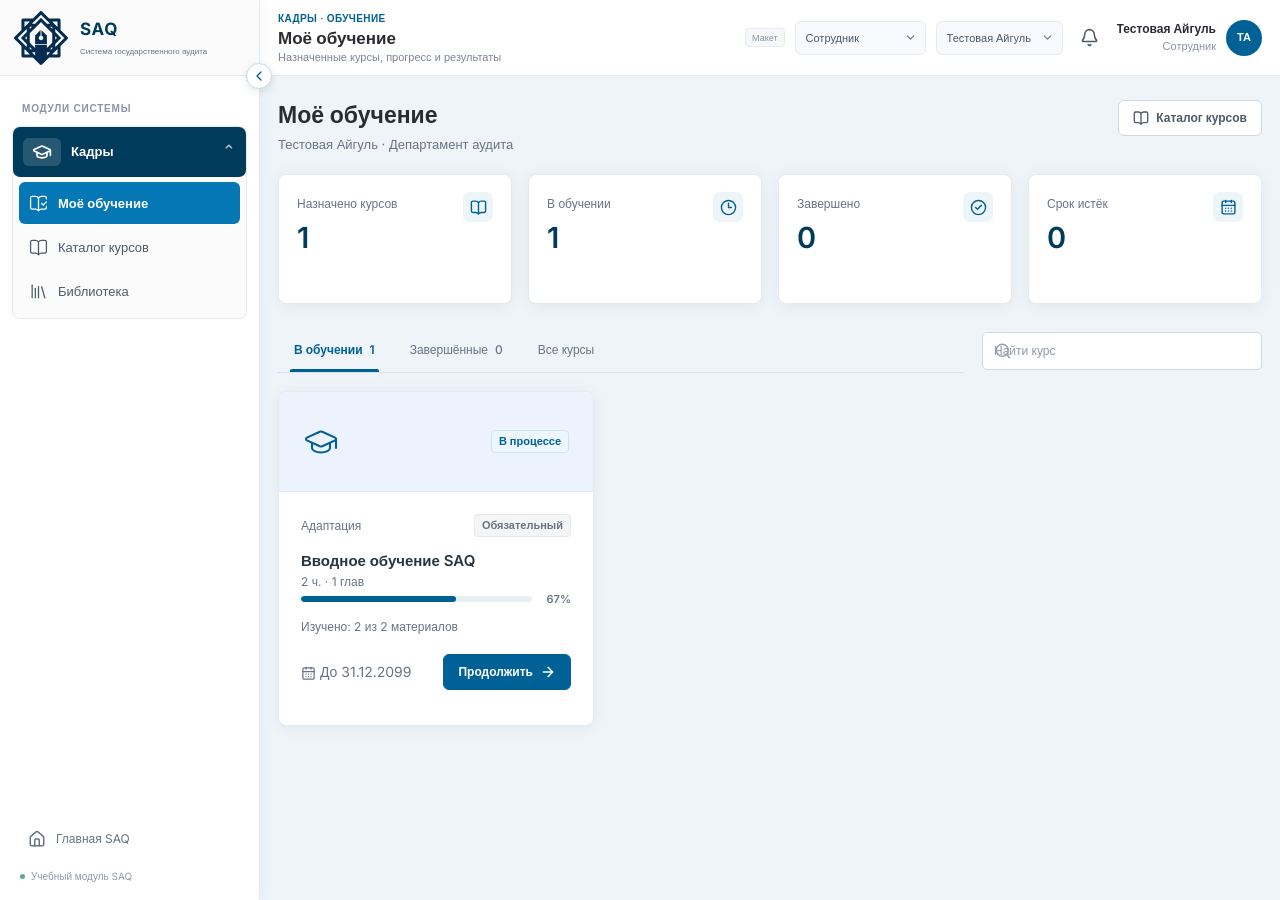
Scenario: Обучение: кадровая служба → сотрудник → результаты › закрывает кадровые маршруты сотруднику и открывает их после переключения реальной роли в приложении
Expected: the 2nd heading "Моё обучение" is shown, x1=278 y1=101 x2=438 y2=129
Expected: the link "Назначения" is not shown
Select "Кадровая служба" in the 1st dropdown named "Режим просмотра" at (860, 38), box x1=794 y1=20 x2=926 y2=54
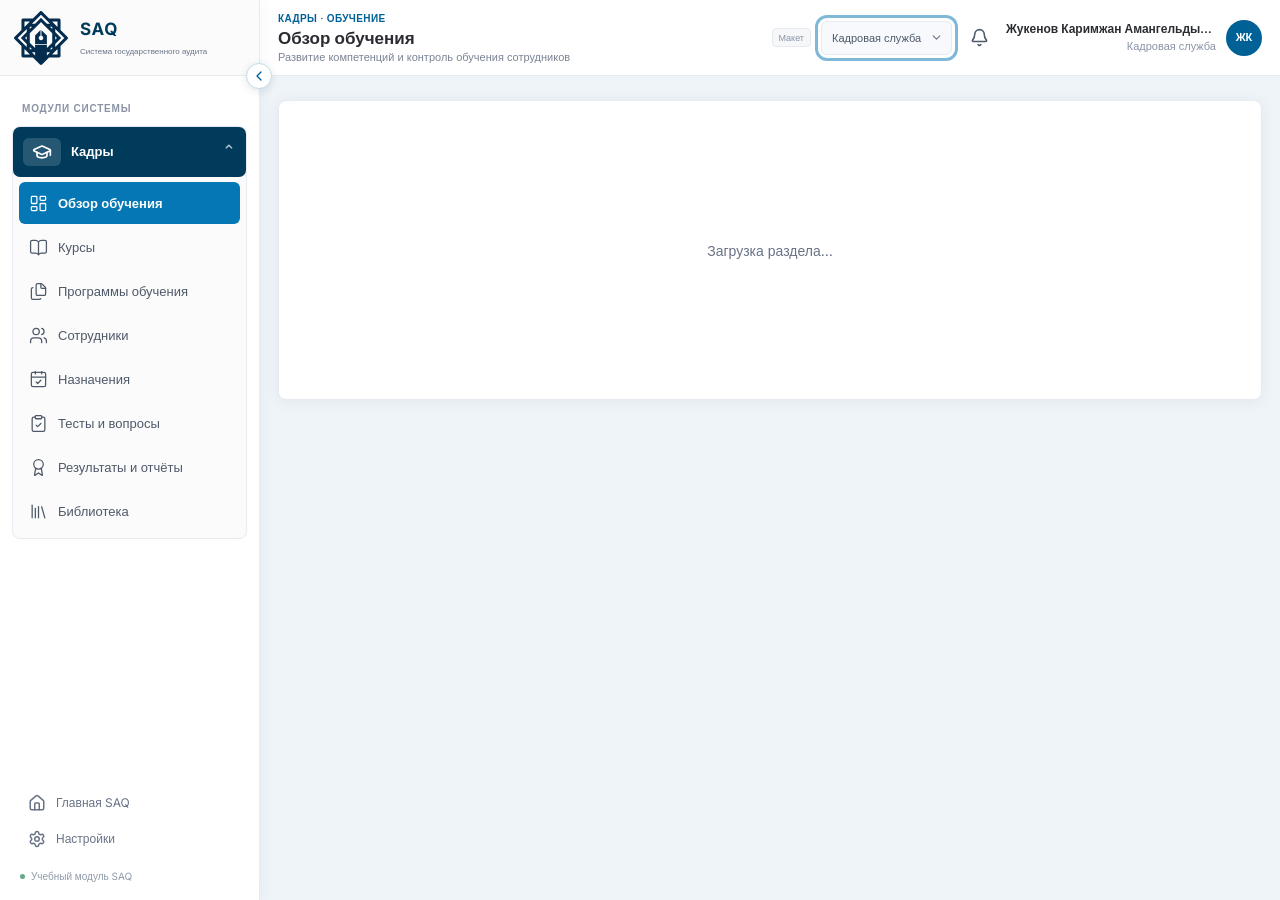
Click the link "Назначения" at (80, 379), box x1=29 y1=370 x2=130 y2=388
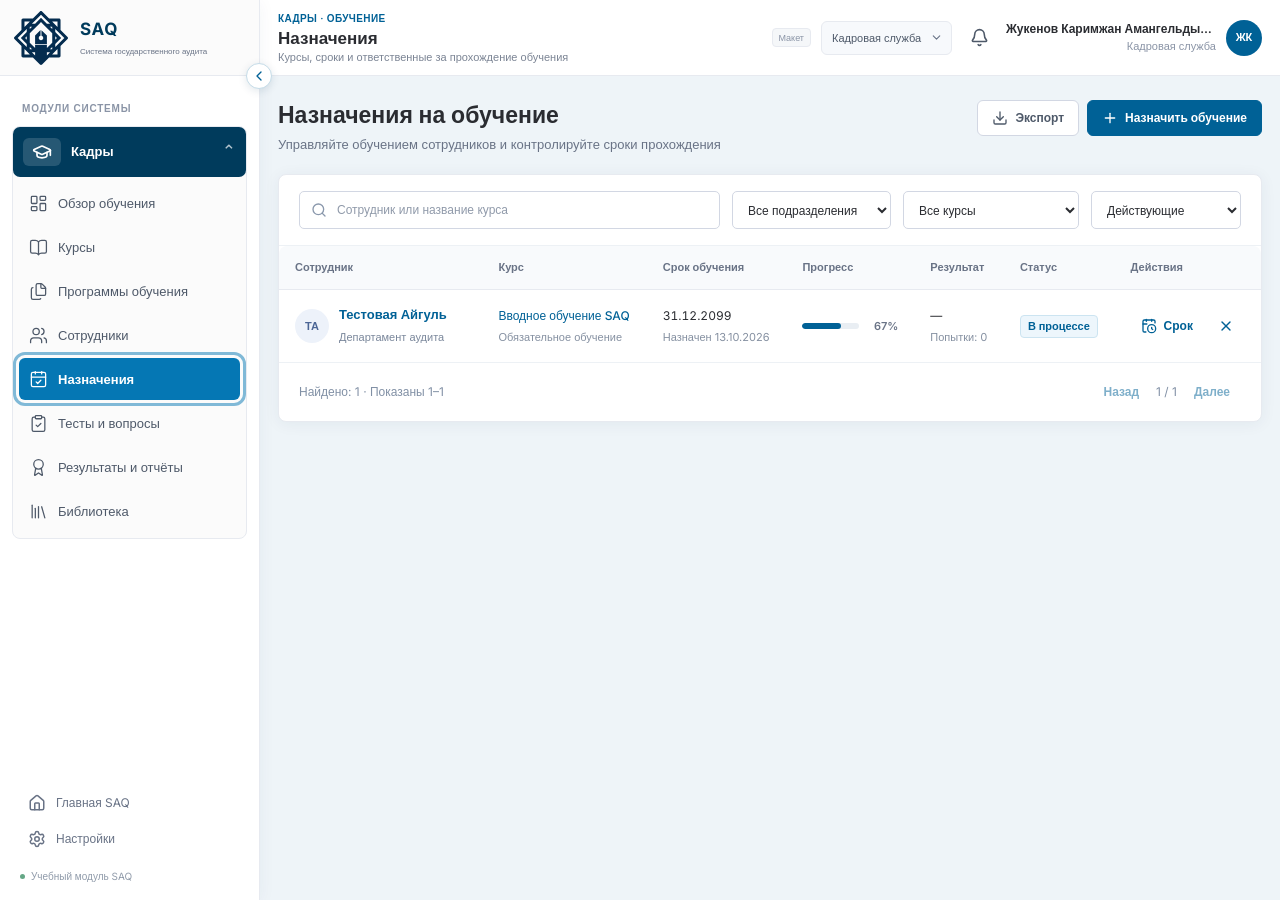
Now the heading "Назначения на обучение" is shown, box x1=278 y1=101 x2=559 y2=129
Now the button "Назначить обучение" is shown, box x1=1087 y1=100 x2=1262 y2=136
Now the row that starts with "Тестовая Айгуль" is shown, box x1=279 y1=290 x2=1261 y2=362
